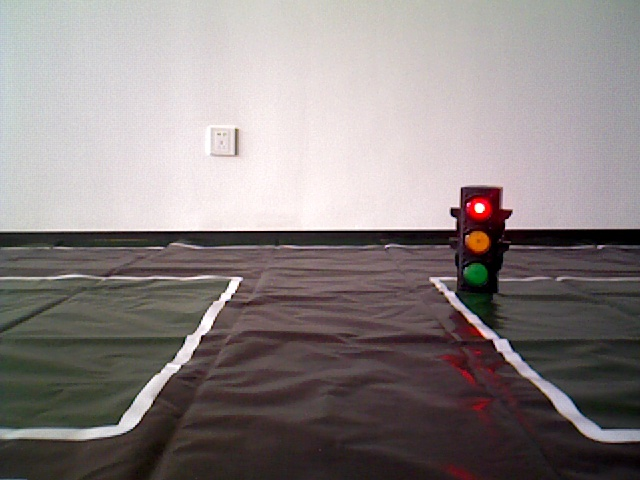red: (459, 191, 495, 290)
